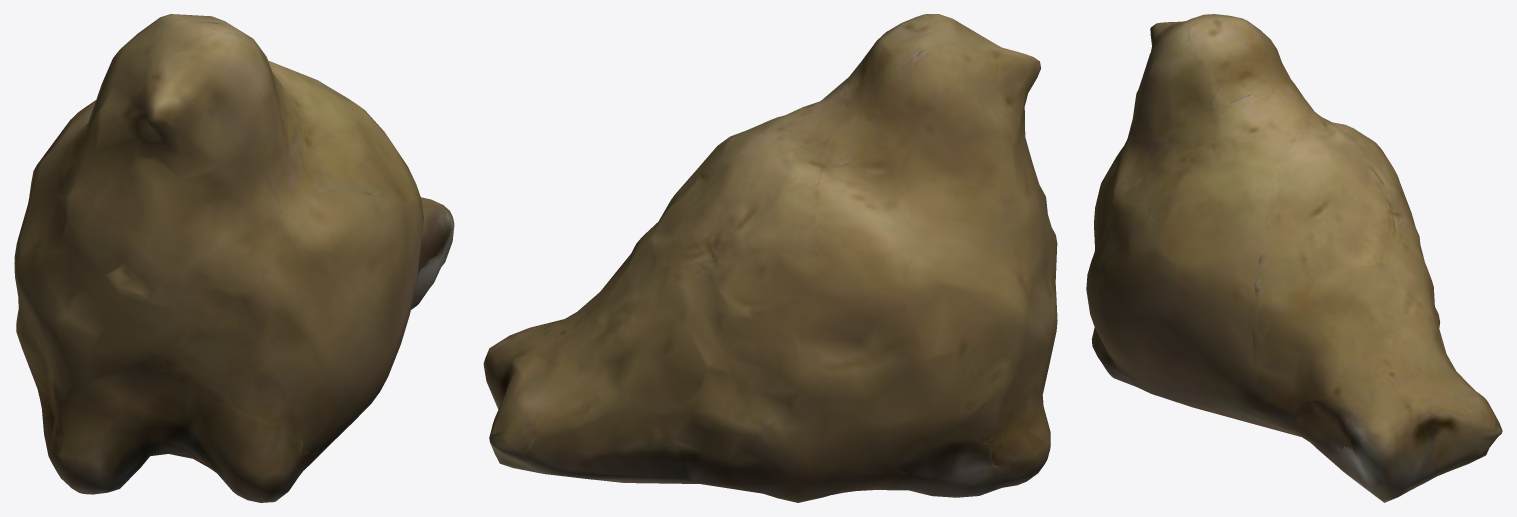
The model's file is hall.glb.
3 views of the same model, side by side, from view 1: azimuth 30°, elevation 25°; view 2: azimuth 150°, elevation 25°; view 3: azimuth 270°, elevation 25° (orthographic). The views are drawn at different scales.
Bounding box in the file's own units: 0.5458 × 0.4758 × 0.4906.
1 material, 1 textured.
